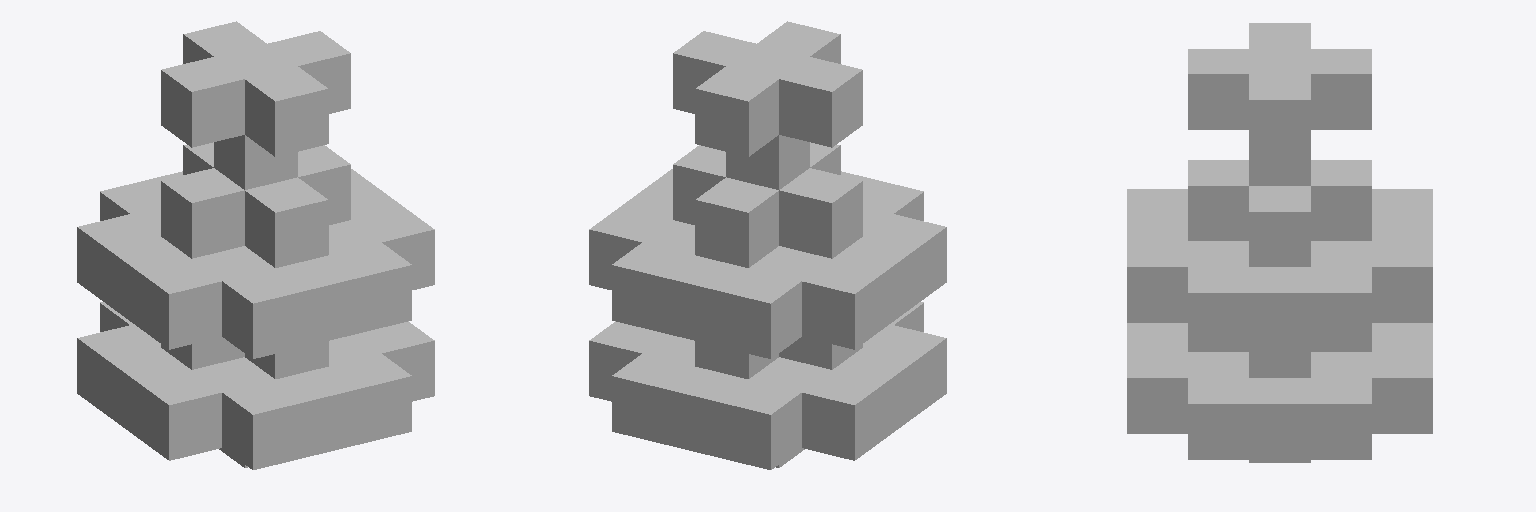
File: Spruce_0.obj
The picture shows the model from 3 angles: view 1: azimuth 30°, elevation 25°; view 2: azimuth 150°, elevation 25°; view 3: azimuth 270°, elevation 25°; orthographic projection.
Visible parts, largest first — view 1: _(2)__37_-60_-144_to_42_319_-140; view 2: _(2)__37_-60_-144_to_42_319_-140; view 3: _(2)__37_-60_-144_to_42_319_-140.
Boxes of the visible parts, <box> form: _(2)__37_-60_-144_to_42_319_-140: <box>77,21,434,469</box>; _(2)__37_-60_-144_to_42_319_-140: <box>589,21,946,469</box>; _(2)__37_-60_-144_to_42_319_-140: <box>1127,23,1432,462</box>.
Bounding box in the file's own units: 5 × 7 × 5.